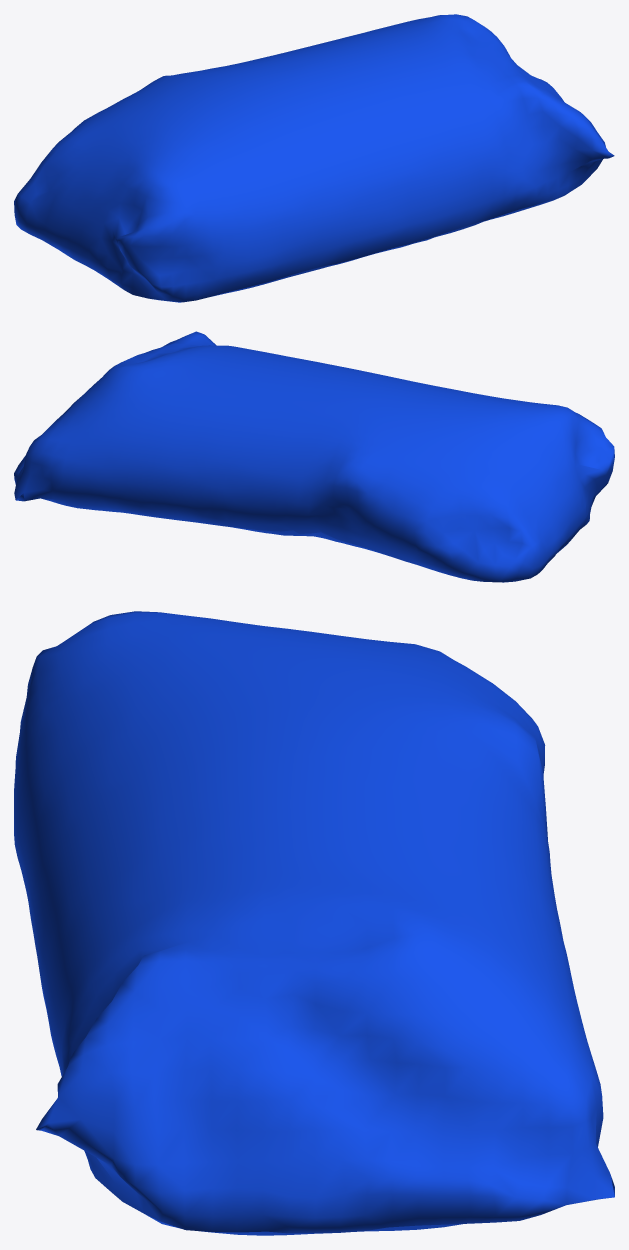
File: SM_Sandbags04.FBX
The picture shows the model from 3 angles, top to bottom: view 1: azimuth 30°, elevation 25°; view 2: azimuth 150°, elevation 25°; view 3: azimuth 270°, elevation 25°; orthographic projection. The views are drawn at different scales.
Visible parts, largest first — view 1: SM_Sandbags04; view 2: SM_Sandbags04; view 3: SM_Sandbags04.
Part boxes in pixels (<box>): SM_Sandbags04: <box>14,14,614,302</box>; SM_Sandbags04: <box>14,331,614,582</box>; SM_Sandbags04: <box>14,611,614,1235</box>.
Bounding box in the file's own units: 169 × 48.92 × 91.38.
